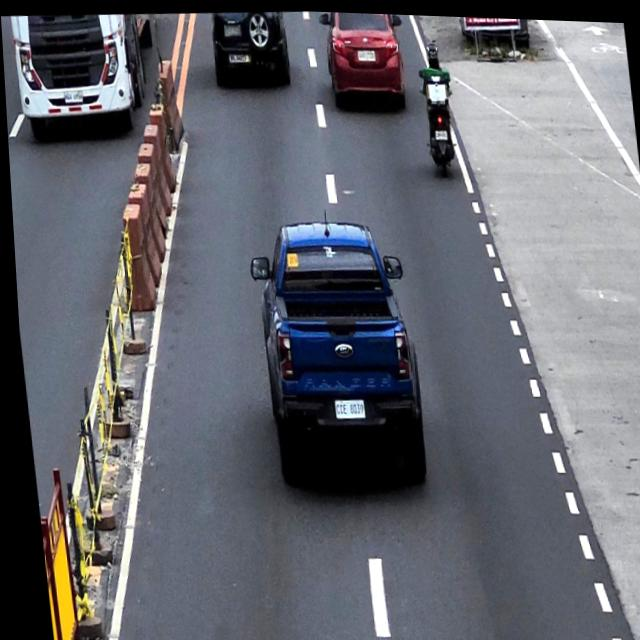Car: (243, 214, 425, 496), (317, 9, 409, 108), (208, 8, 295, 91)
License-Plate: (329, 395, 361, 416), (228, 49, 250, 64), (356, 47, 376, 60), (434, 126, 446, 137)
Motorcycle: (416, 66, 460, 173)
